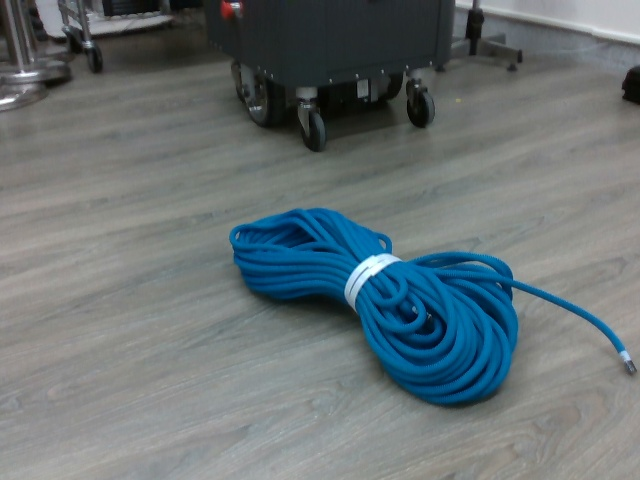rope: (226, 206, 637, 410)
